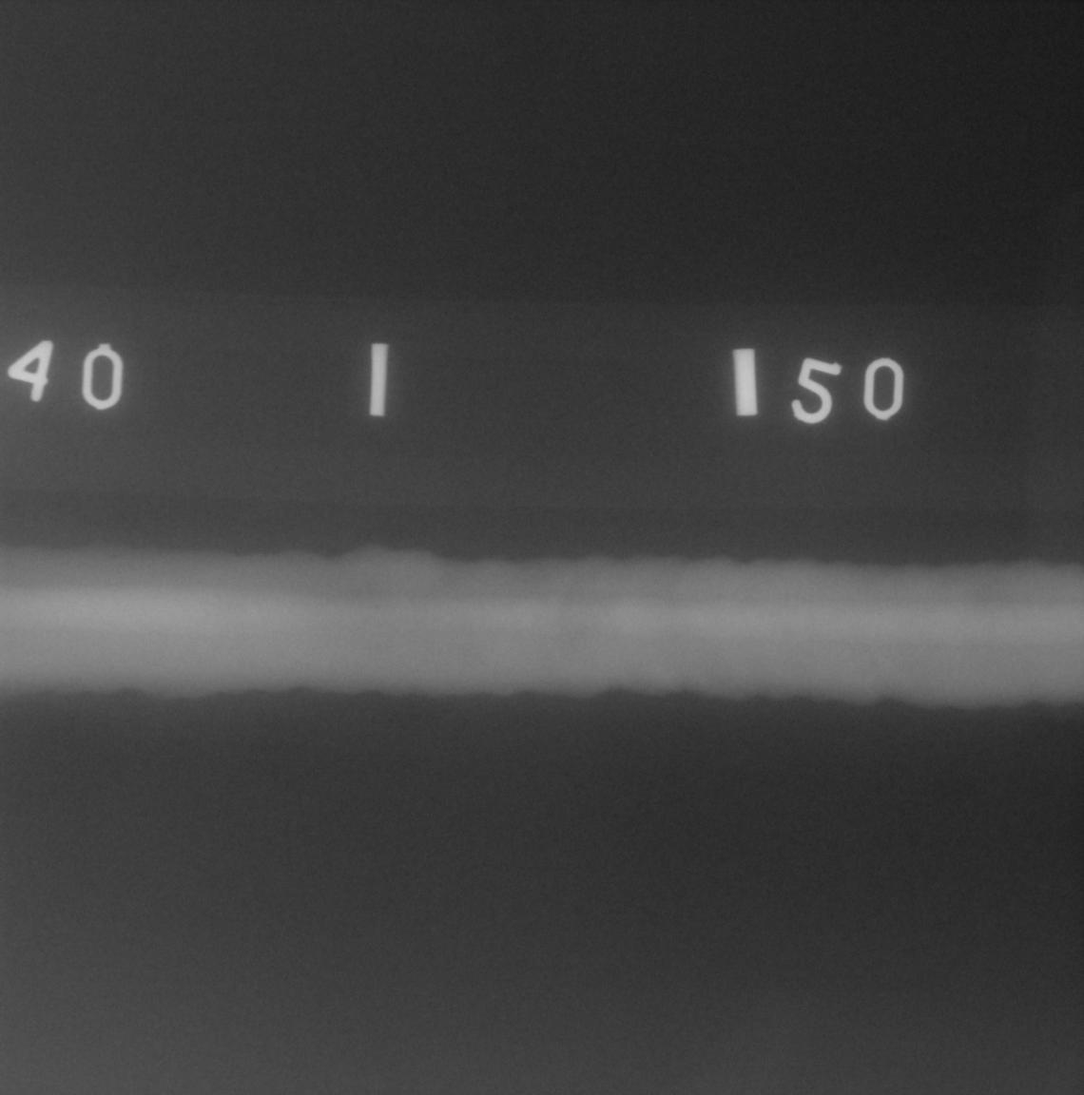Pore/Porosity: (374, 605, 379, 608)
